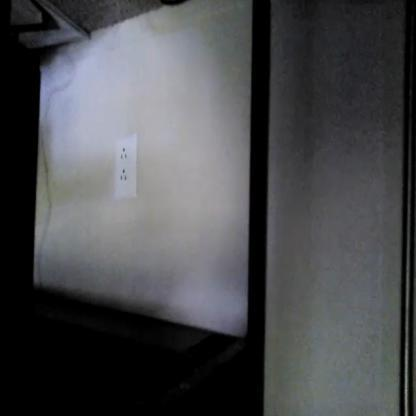OUTLET: (113, 135, 138, 200)
